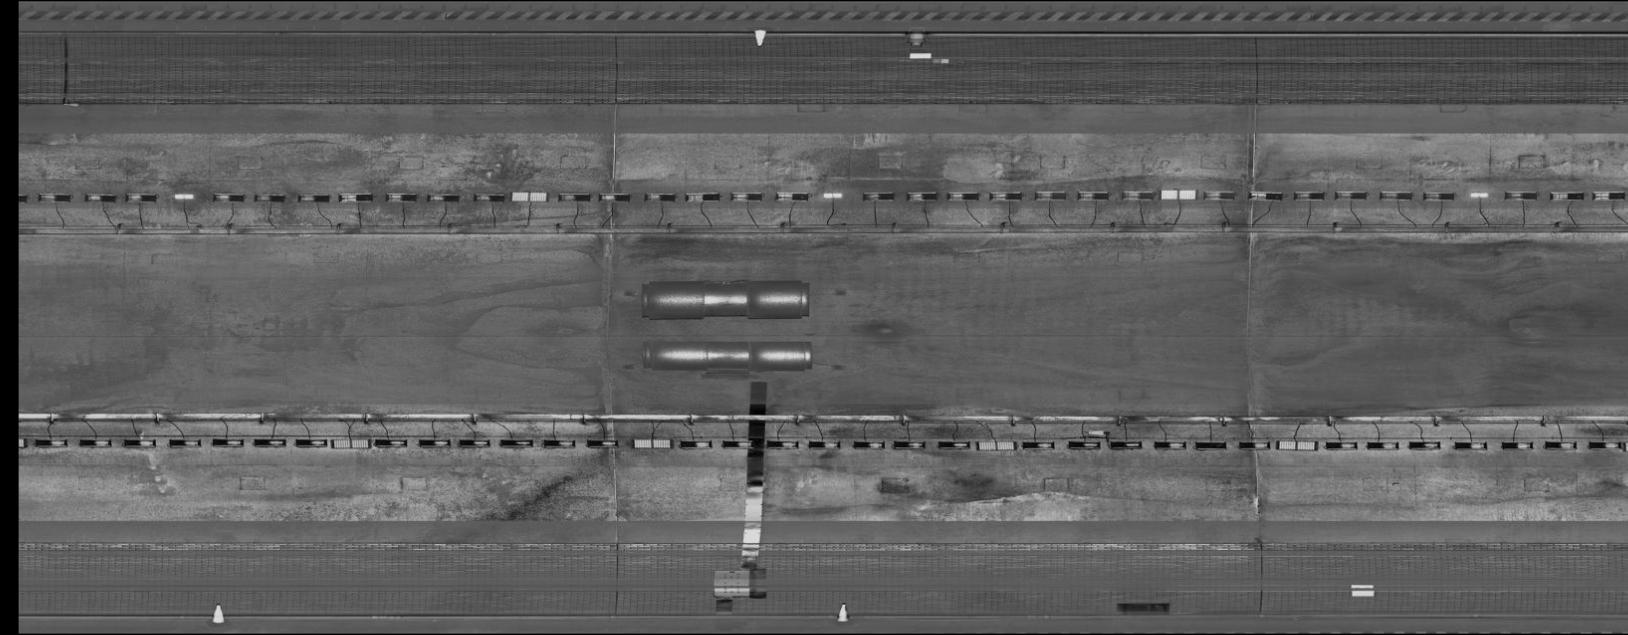light: (1116, 186, 1157, 203), (1274, 438, 1320, 453), (509, 189, 551, 205), (329, 436, 374, 451), (628, 436, 673, 451), (973, 438, 1017, 453), (334, 190, 376, 206), (1158, 187, 1199, 202), (554, 189, 593, 205), (1376, 187, 1414, 203), (985, 188, 1026, 203), (381, 189, 418, 205), (1545, 189, 1588, 203), (1071, 188, 1111, 203), (1246, 188, 1285, 203), (681, 190, 723, 204), (295, 191, 333, 206), (424, 190, 462, 205), (640, 189, 678, 204), (1332, 188, 1371, 203), (889, 437, 927, 452), (1106, 437, 1144, 452), (35, 189, 73, 204), (596, 189, 633, 204), (1032, 188, 1069, 203), (933, 436, 971, 451), (726, 189, 765, 203), (943, 189, 982, 203), (1589, 189, 1628, 203), (30, 435, 70, 449), (1191, 438, 1230, 452), (1234, 437, 1274, 451), (123, 190, 159, 205), (1403, 438, 1444, 451), (1540, 438, 1581, 451), (292, 435, 330, 449), (208, 191, 248, 204), (1500, 189, 1541, 202), (1362, 439, 1403, 452), (1450, 439, 1491, 452), (470, 191, 508, 205), (1201, 188, 1239, 202), (1288, 188, 1326, 202), (718, 437, 756, 451), (763, 438, 801, 452), (164, 436, 203, 449), (209, 436, 248, 449), (1498, 439, 1538, 452), (250, 191, 287, 205), (903, 190, 940, 204), (1420, 189, 1457, 203), (81, 191, 119, 204), (250, 436, 289, 449), (774, 189, 811, 202), (74, 437, 114, 449), (538, 437, 578, 449), (585, 437, 622, 450), (1019, 439, 1056, 452), (1063, 439, 1101, 452), (1322, 440, 1359, 453), (859, 190, 898, 202), (496, 437, 536, 449), (416, 436, 453, 449), (677, 438, 713, 451), (806, 438, 842, 451), (849, 438, 886, 451), (120, 437, 159, 449), (1150, 439, 1189, 451), (1584, 439, 1623, 451), (371, 437, 408, 449), (456, 437, 491, 448), (168, 190, 197, 202), (1465, 190, 1494, 200), (821, 190, 845, 201), (19, 189, 30, 205), (19, 433, 28, 451), (1623, 440, 1628, 452)
